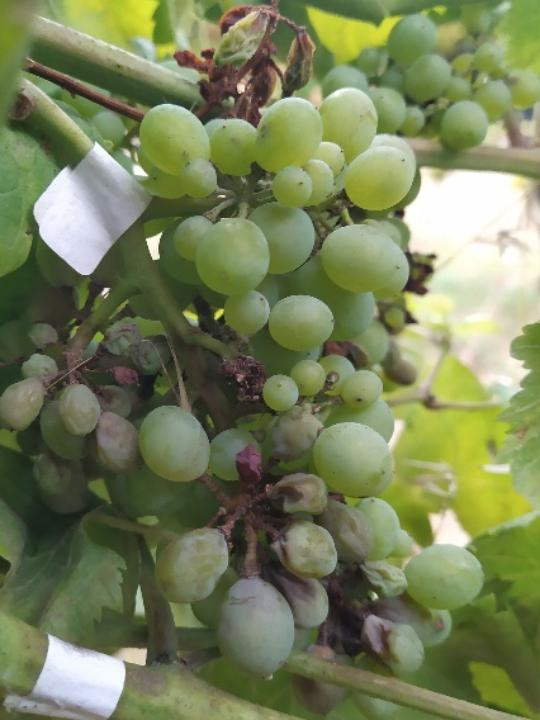grape: (0, 79, 491, 684)
